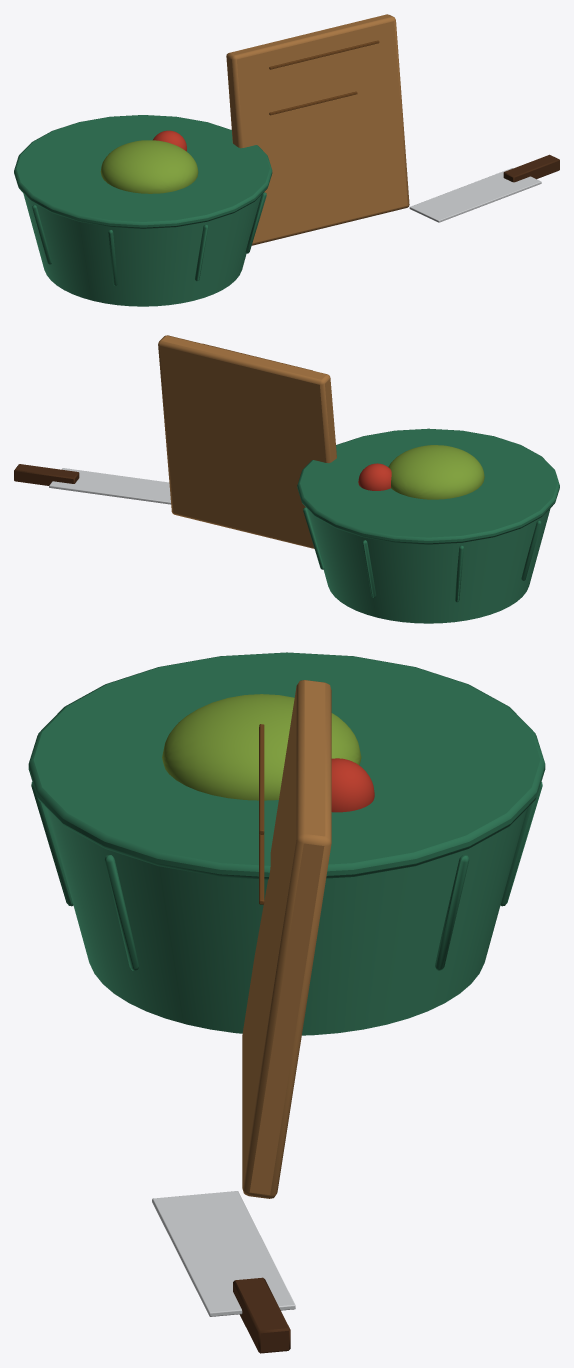
File: RoRaThit.glb
3 renders of one model, top to bottom at view 1: azimuth 30°, elevation 25°; view 2: azimuth 150°, elevation 25°; view 3: azimuth 270°, elevation 25°, orthographic. The views are drawn at different scales.
Visible parts, largest first — view 1: RoRaThit; view 2: RoRaThit; view 3: RoRaThit.
Part boxes in pixels (box(x1,y1,x2,y2)): RoRaThit: box(14, 14, 559, 306); RoRaThit: box(14, 335, 559, 623); RoRaThit: box(28, 652, 545, 1353).
Size of the model in its own units: 0.9563 by 0.3216 by 0.41.
